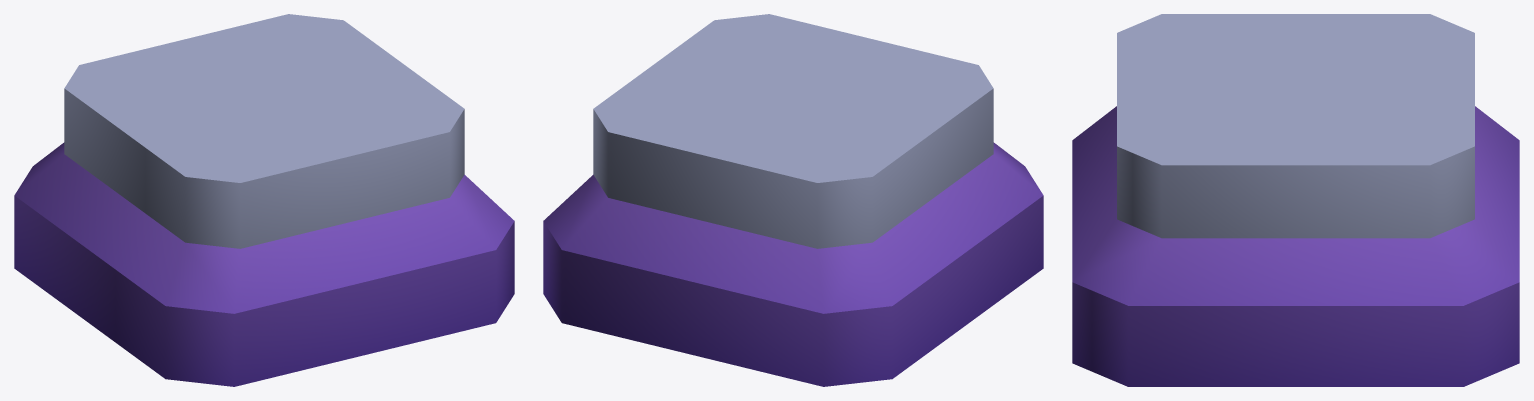
File: tower-square-bottom-a.glb
The picture shows the model from 3 angles, left to right: view 1: azimuth 30°, elevation 25°; view 2: azimuth 150°, elevation 25°; view 3: azimuth 270°, elevation 25°; orthographic projection. The views are drawn at different scales.
Parts seen in each view (by area): view 1: tower-square-bottom-a; view 2: tower-square-bottom-a; view 3: tower-square-bottom-a.
Part boxes in pixels (<box>): tower-square-bottom-a: <box>14,14,514,386</box>; tower-square-bottom-a: <box>543,14,1043,386</box>; tower-square-bottom-a: <box>1072,14,1519,386</box>.
Bounding box in the file's own units: 1 × 0.5001 × 1.
